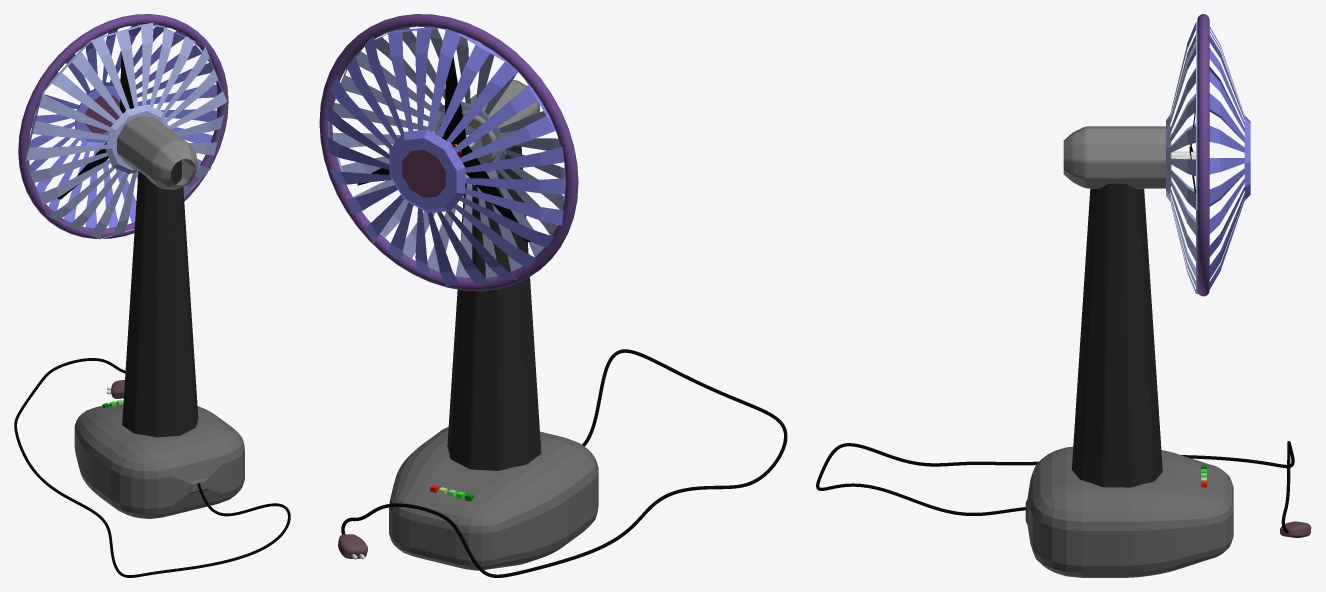
File: Fan.glb
3 renders of one model, left to right at view 1: azimuth 30°, elevation 25°; view 2: azimuth 150°, elevation 25°; view 3: azimuth 270°, elevation 25°, orthographic. The views are drawn at different scales.
Parts seen in each view (by area): view 1: Cube.001, Cylinder.002, Cube, Cylinder.003, BézierCircle, Cylinder, NurbsPath, Plane; view 2: Cylinder.003, Cube, Cube.001, Cylinder.002, BézierCircle, NurbsPath, Cylinder, Plane, Plane.001, Cube.007; view 3: Cube.001, Cube, Cylinder, Cylinder.003, Cylinder.002, BézierCircle, NurbsPath.
Part boxes in pixels (bbox=[...]): Cube.001: bbox=[122, 160, 198, 437]; Cylinder.002: bbox=[25, 22, 227, 239]; Cube: bbox=[74, 400, 244, 518]; Cylinder.003: bbox=[29, 24, 217, 228]; BézierCircle: bbox=[18, 14, 228, 238]; Cylinder: bbox=[117, 115, 197, 189]; NurbsPath: bbox=[14, 358, 290, 577]; Plane: bbox=[120, 52, 133, 113]; Cylinder.003: bbox=[328, 27, 565, 287]; Cube: bbox=[389, 427, 598, 570]; Cube.001: bbox=[447, 145, 541, 470]; Cylinder.002: bbox=[333, 27, 564, 278]; BézierCircle: bbox=[319, 14, 578, 291]; NurbsPath: bbox=[341, 349, 787, 577]; Cylinder: bbox=[439, 80, 539, 164]; Plane: bbox=[444, 56, 466, 144]; Plane.001: bbox=[461, 145, 530, 242]; Cube.007: bbox=[338, 534, 367, 558]; Cube.001: bbox=[1072, 183, 1162, 487]; Cube: bbox=[1025, 446, 1233, 577]; Cylinder: bbox=[1063, 126, 1171, 188]; Cylinder.003: bbox=[1208, 26, 1250, 291]; Cylinder.002: bbox=[1166, 22, 1198, 293]; BézierCircle: bbox=[1197, 14, 1209, 296]; NurbsPath: bbox=[816, 441, 1294, 533].
Size of the model in its own units: 2.34 by 4.28 by 3.64.
